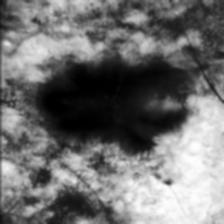Potentially Malignant Skin Tumors: (42, 60, 184, 150)
